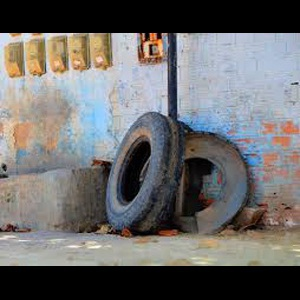tire: (148, 131, 251, 235), (104, 113, 183, 235)
